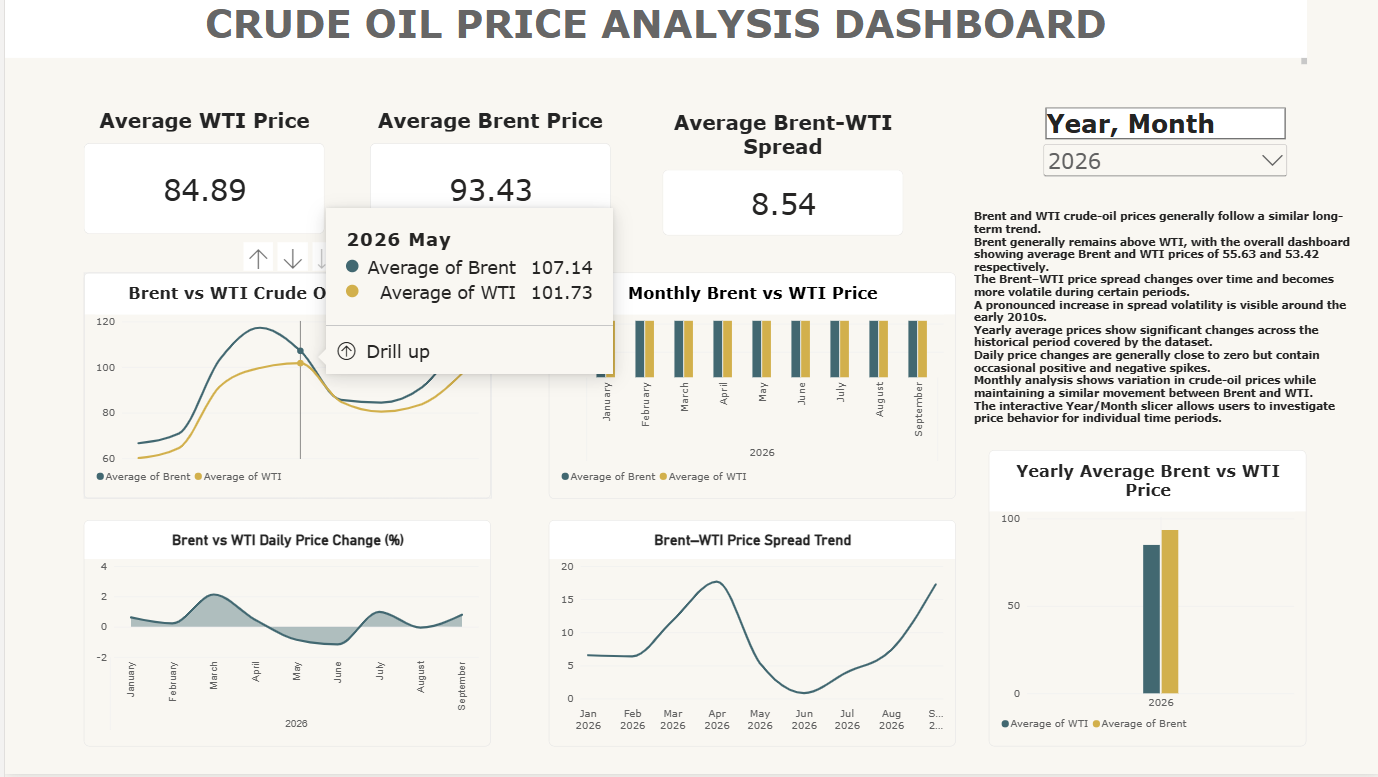

What the dashboard file says about the page in this screenshot:
{"tool":"powerbi","page":{"name":"Page 1","canvas":[1920,1080],"ordinal":0},"visuals":[{"type":"lineChart","title":"Brent vs WTI Crude Oil Price Trend","fields":{"Category":["Sheet1.Date.Variation.Date Hierarchy.Year","Sheet1.Date.Variation.Date Hierarchy.Month"],"Y":["Avg(Sheet1.Brent)","Avg(Sheet1.WTI)"]},"box":[110,380,568,316],"z":0},{"type":"cardVisual","title":"Average WTI Price","fields":{"Data":["Avg(Sheet1.WTI)"]},"box":[110,150,336.7,176.7],"z":1000},{"type":"slicer","fields":{"Values":["Sheet1.Date.Variation.Date Hierarchy.Year","Sheet1.Date.Variation.Date Hierarchy.Month"]},"box":[1445,150,350,102.5],"z":2000},{"type":"lineChart","title":"Brent–WTI Price Spread Trend","fields":{"Category":["Sheet1.Date.Variation.Date Hierarchy.Year","Sheet1.Date.Variation.Date Hierarchy.Month"],"Y":["Avg(Sheet1.Spread)"]},"box":[758,726,568,316],"z":3000},{"type":"clusteredColumnChart","title":"Monthly  Brent vs WTI Price","fields":{"Category":["Sheet1.Date.Variation.Date Hierarchy.Year","Sheet1.Date.Variation.Date Hierarchy.Month"],"Y":["Avg(Sheet1.Brent)","Avg(Sheet1.WTI)"]},"box":[758,380,568,316],"z":4000},{"type":"stackedAreaChart","title":"Brent vs WTI Daily Price Change (%)","fields":{"Category":["Sheet1.Date.Variation.Date Hierarchy.Year","Sheet1.Date.Variation.Date Hierarchy.Month"],"Y":["Avg(Sheet1.WTI_Daily_Change_%)"]},"box":[110,726,568,316],"z":5000},{"type":"textbox","title":" CRUDE OIL PRICE ANALYSIS DASHBOARD","box":[0,0,1816.7,90],"z":6000},{"type":"cardVisual","title":"Average Brent Price","fields":{"Data":["Avg(Sheet1.Brent)"]},"box":[510,150,336,176.7],"z":7000},{"type":"cardVisual","title":"Average  Brent-WTI Spread","fields":{"Data":["Avg(Sheet1.Spread)"]},"box":[916.7,153.3,336,176],"z":8000},{"type":"clusteredColumnChart","title":"Yearly Average Brent vs WTI Price","fields":{"Category":["Sheet1.Date.Variation.Date Hierarchy.Year"],"Y":["Avg(Sheet1.WTI)","Avg(Sheet1.Brent)"]},"box":[1372.7,627.9,443.3,413.3],"z":9000},{"type":"textbox","box":[1351.7,293,537.2,312.2],"z":9001}]}

Visuals, with their boxes in screenshot pixels (x1, y1, x2, y2), scaled from the page's 1920x1080 canvas onto the 1378x777 screenshot:
"Brent vs WTI Crude Oil Price Trend" lineChart: locate(79, 273, 487, 501)
"Average WTI Price" cardVisual: locate(79, 108, 321, 235)
slicer - Sheet1.Date.Variation.Date Hierarchy.Year x Sheet1.Date.Variation.Date Hierarchy.Month: locate(1037, 108, 1288, 182)
"Brent–WTI Price Spread Trend" lineChart: locate(544, 522, 952, 750)
"Monthly  Brent vs WTI Price" clusteredColumnChart: locate(544, 273, 952, 501)
"Brent vs WTI Daily Price Change (%)" stackedAreaChart: locate(79, 522, 487, 750)
" CRUDE OIL PRICE ANALYSIS DASHBOARD" textbox: locate(0, 0, 1304, 65)
"Average Brent Price" cardVisual: locate(366, 108, 607, 235)
"Average  Brent-WTI Spread" cardVisual: locate(658, 110, 899, 237)
"Yearly Average Brent vs WTI Price" clusteredColumnChart: locate(985, 452, 1303, 749)
textbox: locate(970, 211, 1356, 435)
